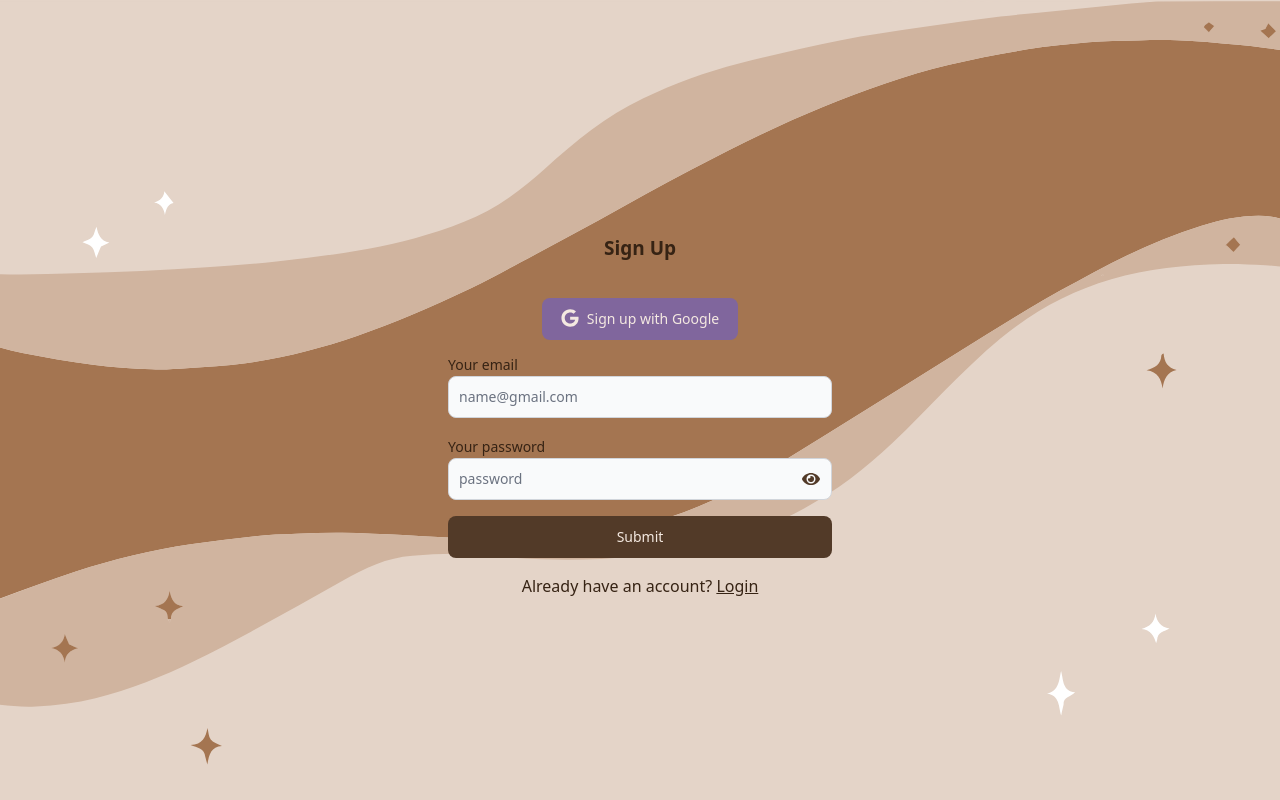
SignupPage - Functional Test › allows user to sign up and shows verification message
The width and height of the screenshot is (1280, 800).
Type "test@example.com" into the field labelled "Your email" at {"x": 640, "y": 397}, box [448,376,832,418]
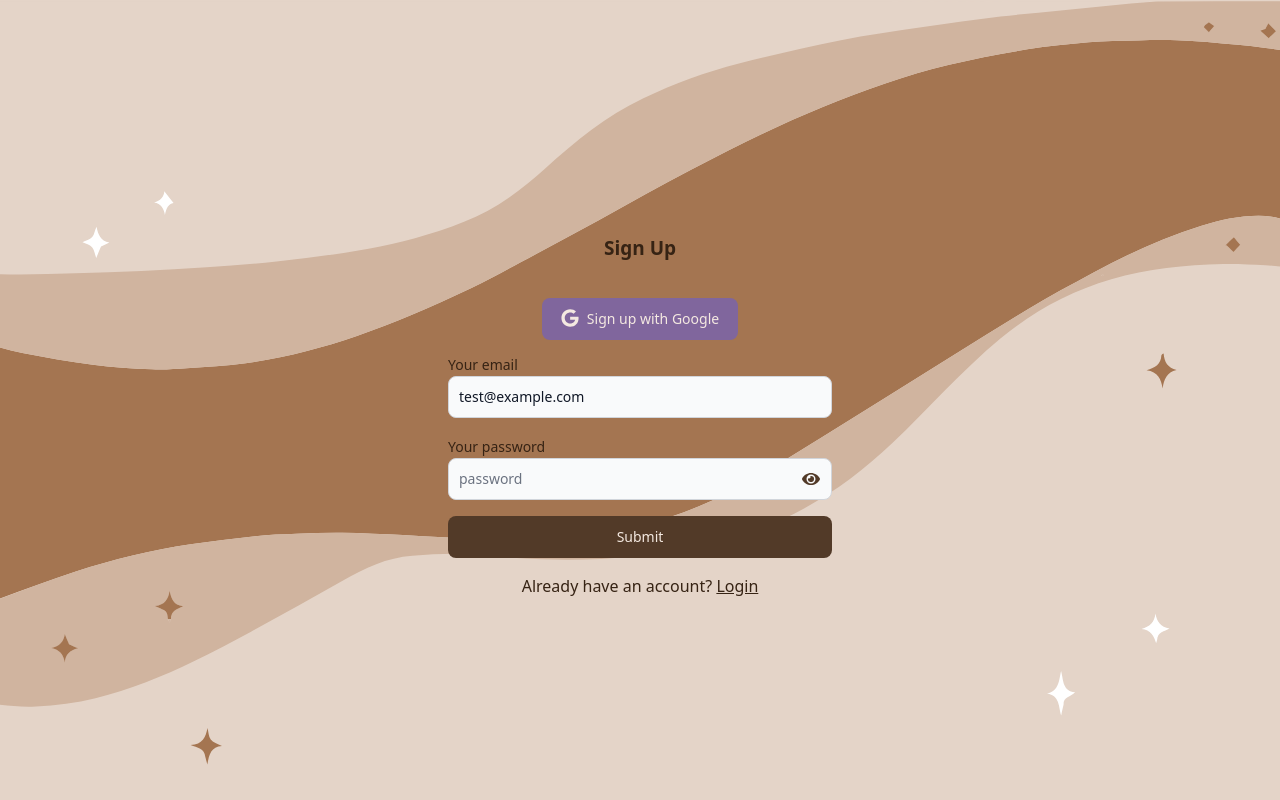
Type "password123" into the password field labelled "Your password" at {"x": 640, "y": 479}, box [448,458,832,500]
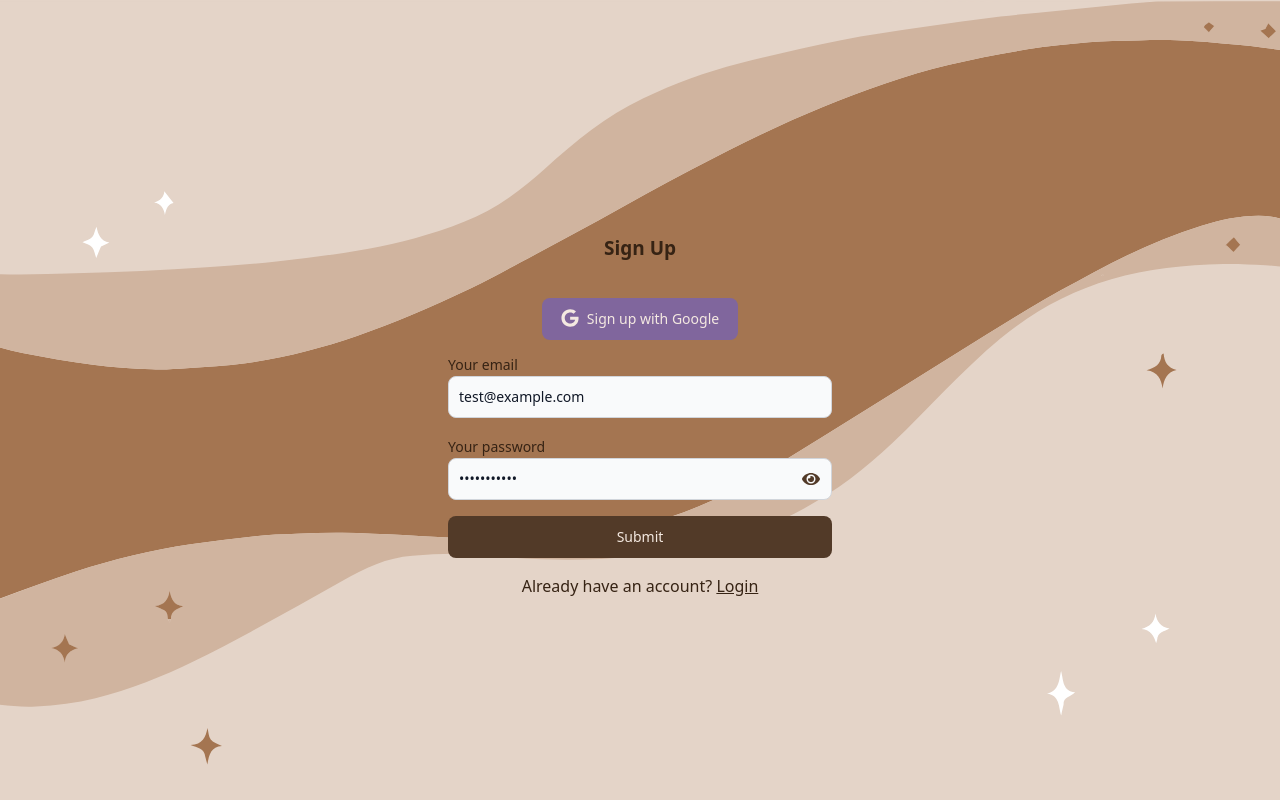
Click the button "Submit" at {"x": 640, "y": 537}, box [448,516,832,558]
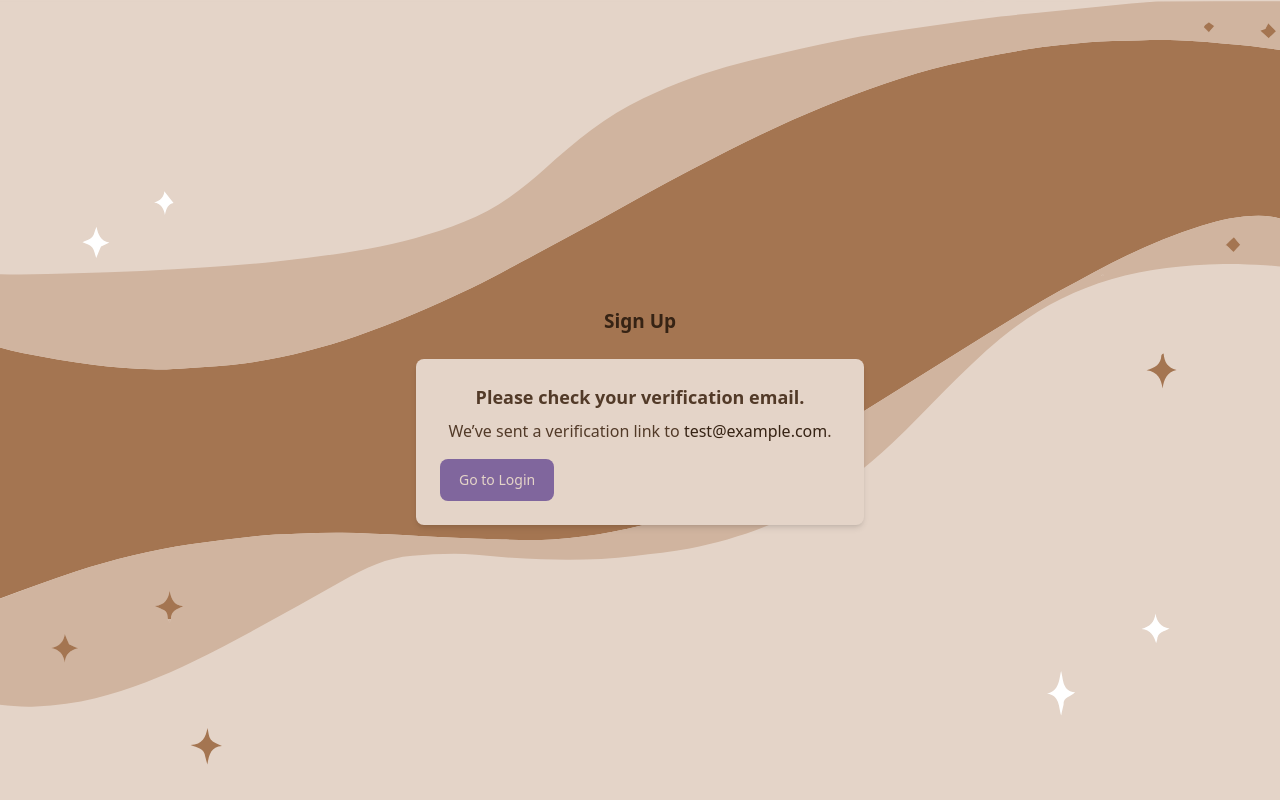
Expected: the heading "Please check your verification email." is shown, [476,385,804,409]
Expected: the text "We’ve sent a verification link to test@example.com." is shown, [440,419,840,443]
